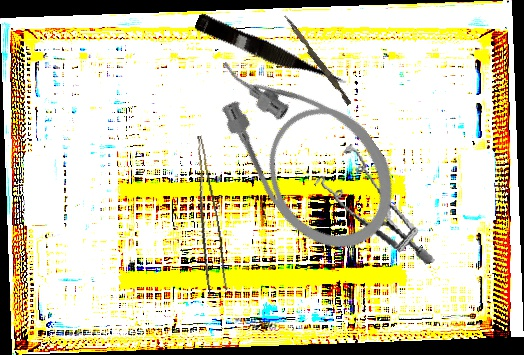Cannula: (191, 18, 419, 273)
Micro Scissor: (192, 12, 349, 96)
Pusher: (279, 14, 355, 106)
Speculum: (307, 132, 436, 284)
Tissue Forceps: (179, 135, 232, 294)
